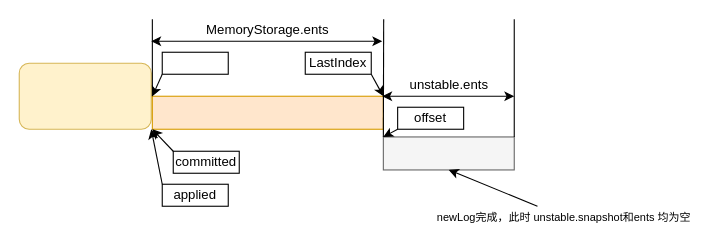
The diagram is 721 pixels wide and 248 high, and some of its shapes have lost their labels. Here are the shapes that lost their labels. From the top down, the box of each, then its label:
(161, 51, 228, 74): FirstIndex
(18, 62, 151, 129): Snapshot
